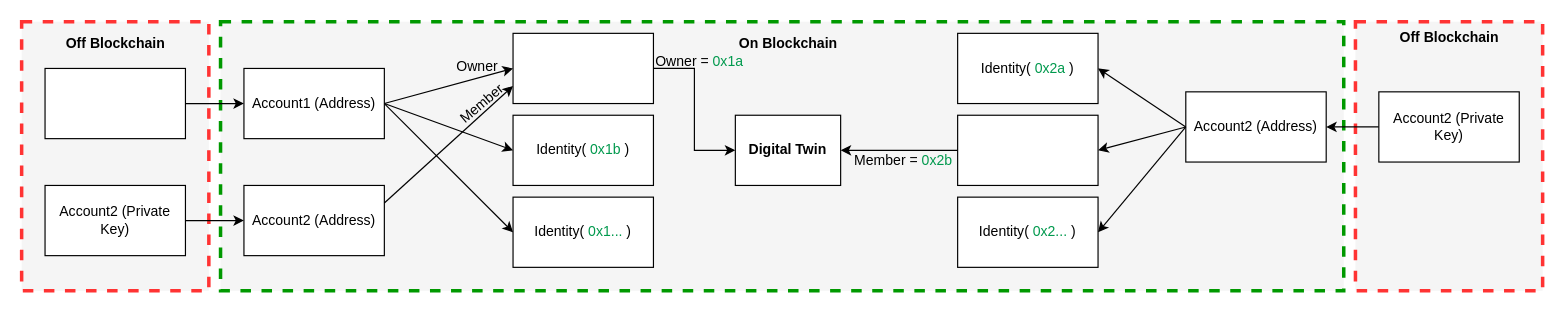
Image size: 1564x312. Some labels were removed from this diagram. The box of each missing label's shape, as (x1, y1, x2, y2) in pixels:
Account1 (Private Key): (44, 67, 185, 139)
Identity( 0x1a ): (512, 32, 653, 104)
Identity( 0x2b ): (956, 114, 1098, 185)
